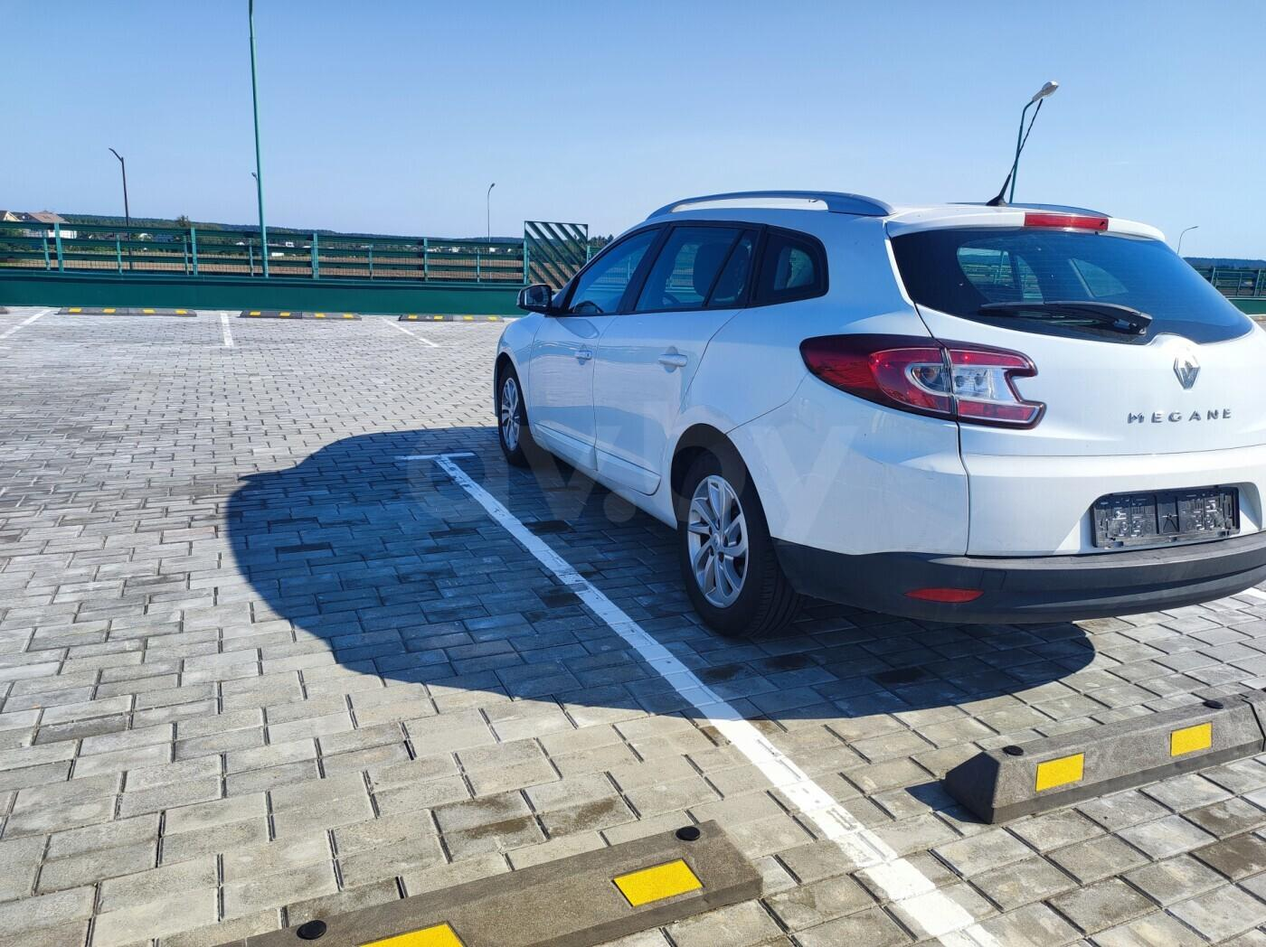Megane_2012-2014: (488, 203, 1266, 640)
